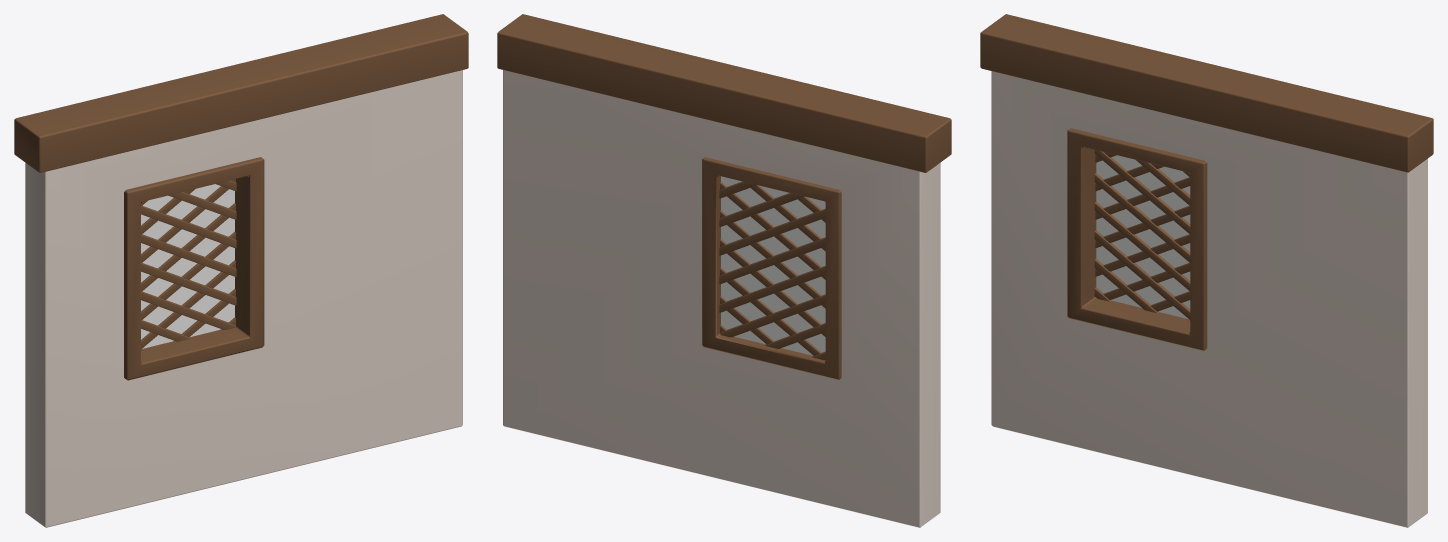
File: Wall_26.glb
3 views of the same model, side by side, from view 1: azimuth 30°, elevation 25°; view 2: azimuth 150°, elevation 25°; view 3: azimuth 330°, elevation 25° (orthographic).
Parts seen in each view (by area): view 1: Wall_26; view 2: Wall_26; view 3: Wall_26.
Part boxes in pixels (x1,y1,x2,y2): Wall_26: (14, 14, 468, 527); Wall_26: (497, 14, 951, 527); Wall_26: (980, 14, 1433, 527).
Size of the model in its own units: 4.73 by 4.16 by 0.5044.
Materials: 2 (2 with a texture image).
